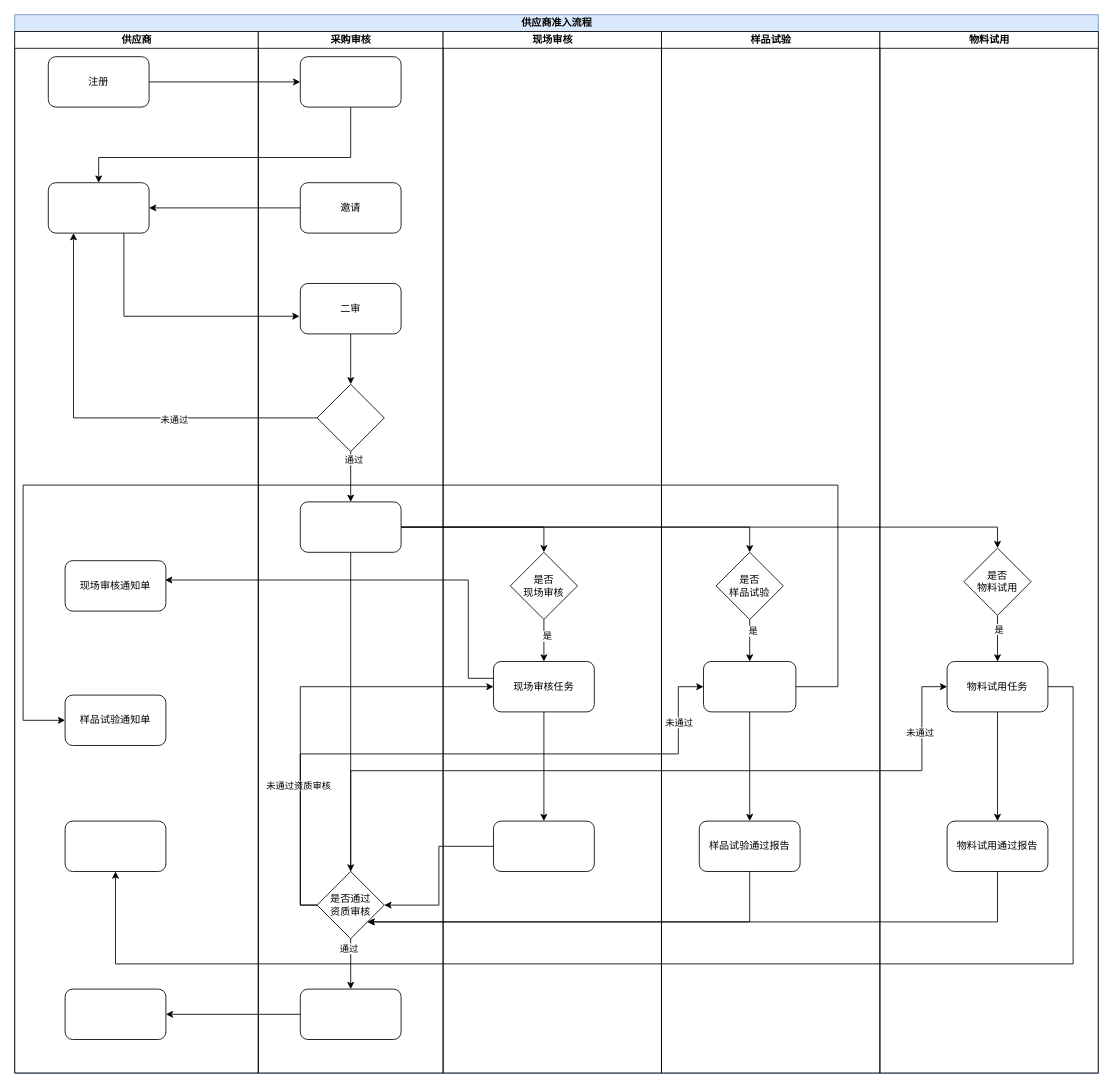
Image size: 1113x1088. Some labels were removed from this diagram. The centre of each missing label's shape, as x and y in pixels:
"初审 指定供应分类 指定供应物料" belongs at pixel 350 81.
"备用供应商" belongs at pixel 115 1014.
"完善资料" belongs at pixel 98 207.
"完成" belongs at pixel 350 1014.
"是否通过" belongs at pixel 350 417.
"样品试验任务" belongs at pixel 749 686.
"物料试用通知单" belongs at pixel 115 846.
"现场审核合格报告" belongs at pixel 543 846.
"资质核验" belongs at pixel 350 526.
